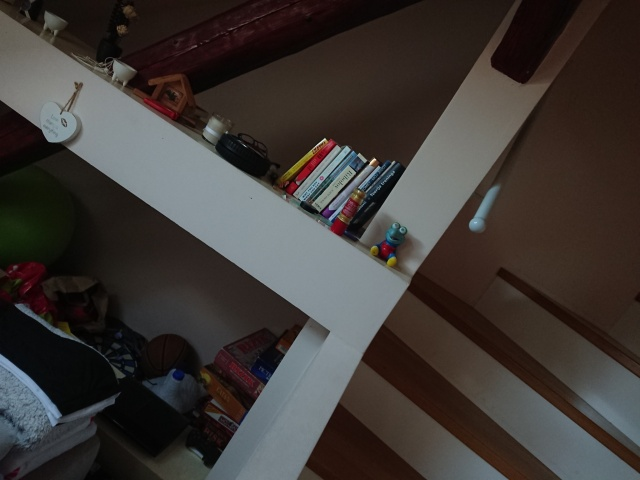Kotanyi Curry Spices Mix 70g: (327, 186, 367, 238)
